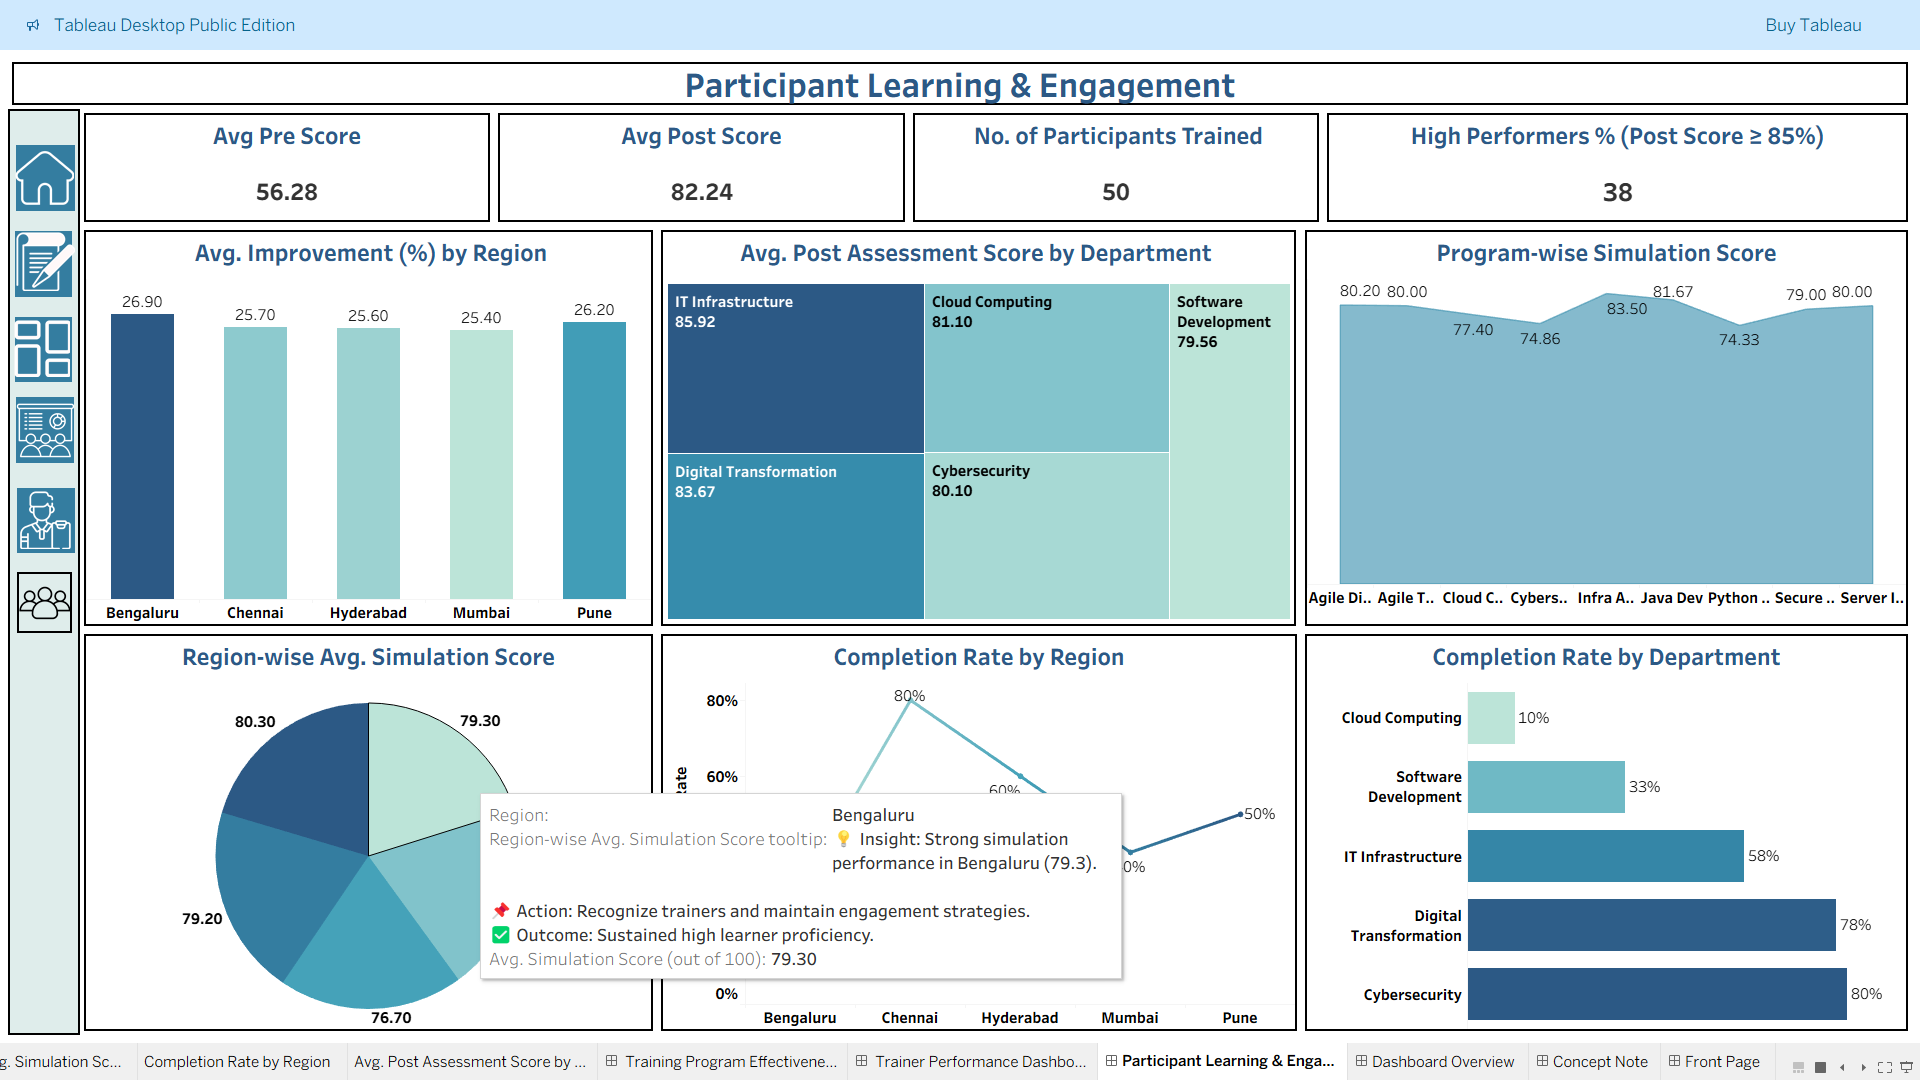

The page's visual inventory and layout, read from the dashboard file:
{"tool":"tableau","page":{"name":"Participant Learning & Engagement","canvas":[1000,1000],"units":"permille","ordinal":5},"visuals":[{"type":"title","box":[4.2,8.1,991.7,51.4]},{"type":"worksheet","title":"Avg Pre Score","mark":"Automatic","box":[41.8,59.4,215.6,117.4]},{"type":"worksheet","title":"Avg Post Score","mark":"Automatic","box":[257.4,59.4,216.2,117.4]},{"type":"worksheet","title":" No. of Participants Trained","mark":"Automatic","box":[473.6,59.4,215.6,117.4]},{"type":"worksheet","title":"High Performers % (Post Score ≥ 85%)","mark":"Automatic","box":[689.2,59.4,306.6,117.4]},{"type":"image","param":"Image/Untitled design.jpg","box":[8.2,96.1,30.7,66.2]},{"type":"dashboard-object","box":[7.7,97.4,30.7,61.2]},{"type":"worksheet","title":" Avg. Improvement (%) by Region","mark":"Automatic","rows":["Calculation_1120833389332942849"],"cols":["Region"],"box":[41.8,176.8,300.6,407]},{"type":"worksheet","title":"Avg. Post Assessment Score by Department ","mark":"Automatic","box":[342.4,176.8,335,407]},{"type":"worksheet","title":"Program-wise Simulation Score","mark":"Area","rows":["Simulation_Score (out of 100)"],"cols":["Program_Name"],"box":[677.5,176.8,318.4,407]},{"type":"dashboard-object","box":[8.2,181,30.7,64.9]},{"type":"image","param":"Image/Untitled design.jpg","box":[7.7,182.3,30.1,66.2]},{"type":"image","param":"Image/Untitled design.jpg","box":[7.7,268.4,30.1,66.2]},{"type":"dashboard-object","box":[7.1,270.9,29.5,58.7]},{"type":"image","param":"Image/Untitled design.jpg","box":[8.2,349.6,30.1,66.2]},{"type":"dashboard-object","box":[8.2,350.8,30.1,64.9]},{"type":"image","param":"Image/Untitled design.jpg","box":[8.8,440.7,30.1,66.2]},{"type":"dashboard-object","box":[8.2,441.9,30.1,62.4]},{"type":"dashboard-object","box":[8.8,525.6,28.9,61.2]},{"type":"worksheet","title":"Region-wise Avg. Simulation Score","mark":"Pie","box":[41.8,583.8,300.6,408.1]},{"type":"worksheet","title":"Completion Rate by Region","mark":"Line","rows":["Calculation_197876940983627780"],"cols":["Region"],"box":[342.4,583.8,335.3,408.1]},{"type":"worksheet","title":"Completion Rate by Department","mark":"Automatic","rows":["Department ( Trainer!Info)"],"cols":["Calculation_197876940983627780"],"box":[677.7,583.8,318.1,408.1]}]}

Visuals, with their boxes on the dashboard's canvas, which has no fixed pixel size, in thousandths of its width and height (x1, y1, x2, y2). These are canvas units, not pixel positions in the 1920x1080 screenshot, which may show the page scaled, cropped or inside an application window:
title: l=4, t=8, r=996, b=60
"Avg Pre Score" worksheet: l=42, t=59, r=257, b=177
"Avg Post Score" worksheet: l=257, t=59, r=474, b=177
" No. of Participants Trained" worksheet: l=474, t=59, r=689, b=177
"High Performers % (Post Score ≥ 85%)" worksheet: l=689, t=59, r=996, b=177
image: l=8, t=96, r=39, b=162
dashboard-object: l=8, t=97, r=38, b=159
" Avg. Improvement (%) by Region" worksheet: l=42, t=177, r=342, b=584
"Avg. Post Assessment Score by Department " worksheet: l=342, t=177, r=677, b=584
"Program-wise Simulation Score" worksheet (Area marks): l=678, t=177, r=996, b=584
dashboard-object: l=8, t=181, r=39, b=246
image: l=8, t=182, r=38, b=248
image: l=8, t=268, r=38, b=335
dashboard-object: l=7, t=271, r=37, b=330
image: l=8, t=350, r=38, b=416
dashboard-object: l=8, t=351, r=38, b=416
image: l=9, t=441, r=39, b=507
dashboard-object: l=8, t=442, r=38, b=504
dashboard-object: l=9, t=526, r=38, b=587
"Region-wise Avg. Simulation Score" worksheet (Pie marks): l=42, t=584, r=342, b=992
"Completion Rate by Region" worksheet (Line marks): l=342, t=584, r=678, b=992
"Completion Rate by Department" worksheet: l=678, t=584, r=996, b=992
